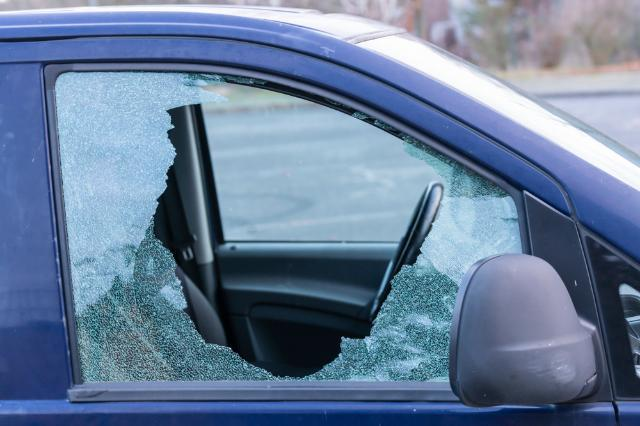glass shatter: (55, 71, 522, 383)
